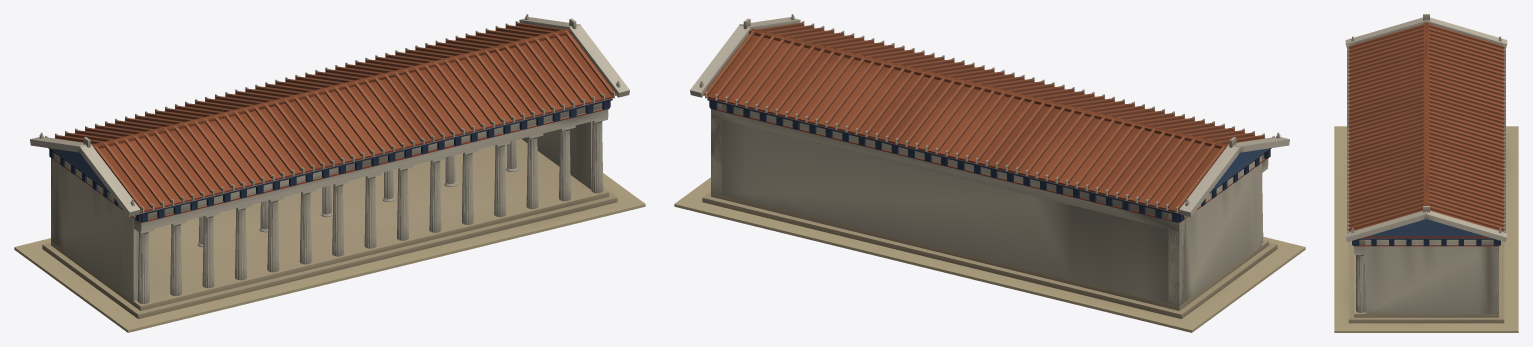
The model's file is stoa-poikile.glb.
3 renders of one model, left to right at view 1: azimuth 30°, elevation 25°; view 2: azimuth 150°, elevation 25°; view 3: azimuth 270°, elevation 25°, orthographic. The views are drawn at different scales.
Parts seen in each view (by area): view 1: p2_roof, p0_base, p1_columns; view 2: p2_roof, p1_columns, p0_base; view 3: p2_roof, p1_columns, p0_base.
Boxes of the visible parts, x1,y1,x2,y2 form: p2_roof: (30,14,629,231); p0_base: (14,139,645,332); p1_columns: (51,117,607,303); p2_roof: (690,14,1289,231); p1_columns: (711,102,1267,306); p0_base: (674,177,1305,332); p2_roof: (1345,14,1507,252); p1_columns: (1354,239,1498,313); p0_base: (1334,126,1518,332).
Bounding box in the file's own units: 42 × 11.52 × 16.
